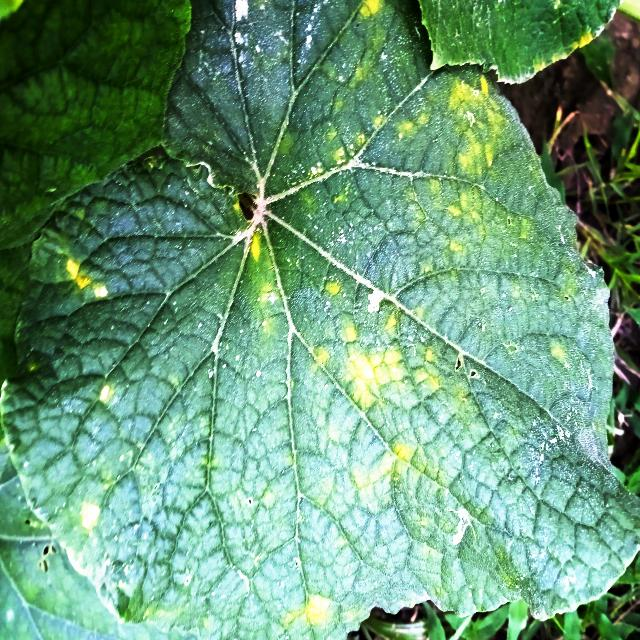Downy-Mildew: (3, 0, 640, 640)
